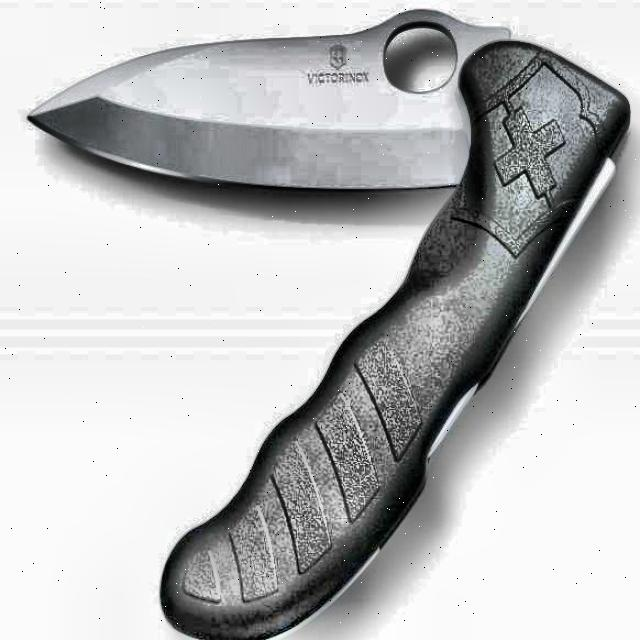knife: (27, 11, 628, 640)
